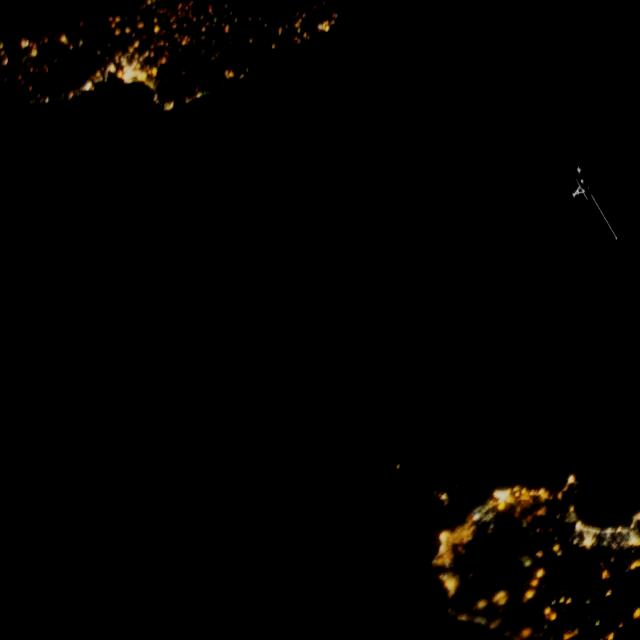satellite: (561, 144, 640, 275)
